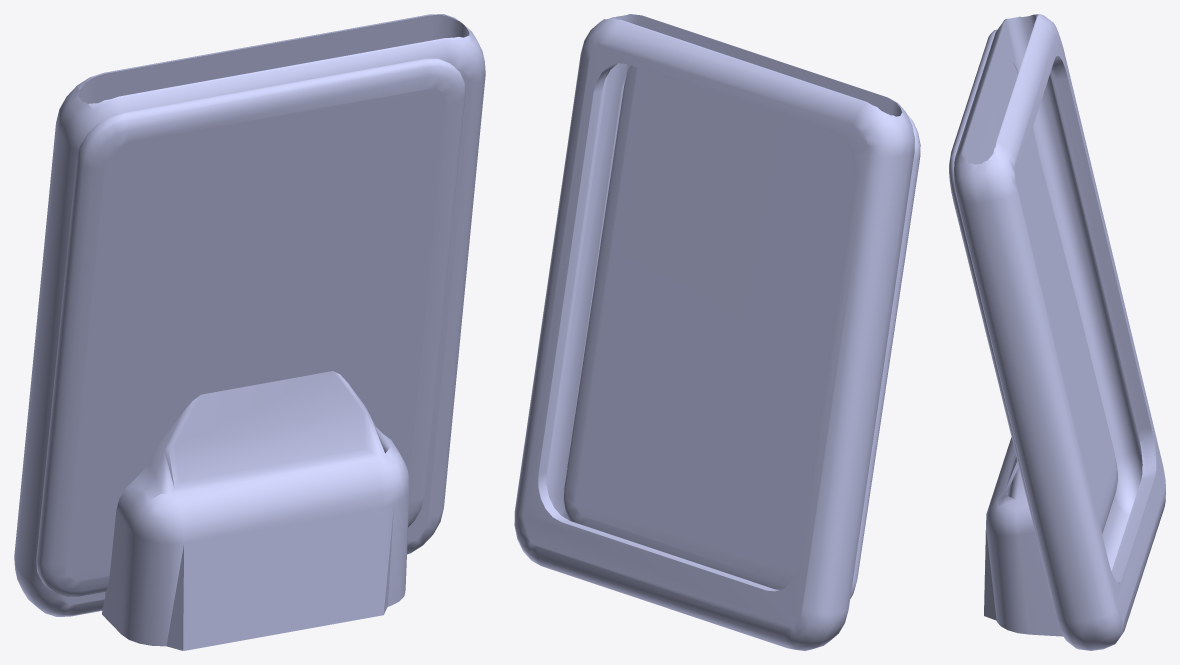
The model's file is card_display_stand_white.glb.
3 views of the same model, side by side, from view 1: azimuth 30°, elevation 25°; view 2: azimuth 150°, elevation 25°; view 3: azimuth 270°, elevation 25° (orthographic). The views are drawn at different scales.
Parts seen in each view (by area): view 1: SHOP_Card Display Stand; view 2: SHOP_Card Display Stand; view 3: SHOP_Card Display Stand.
Part boxes in pixels (box(x1,y1,x2,y2)): SHOP_Card Display Stand: box(14, 14, 485, 650); SHOP_Card Display Stand: box(514, 14, 920, 650); SHOP_Card Display Stand: box(949, 14, 1165, 650).
Bounding box in the file's own units: 0.1841 × 0.2527 × 0.0993.
